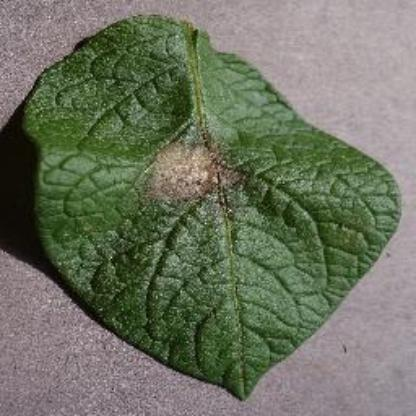Late-Blight: (18, 13, 394, 400)
